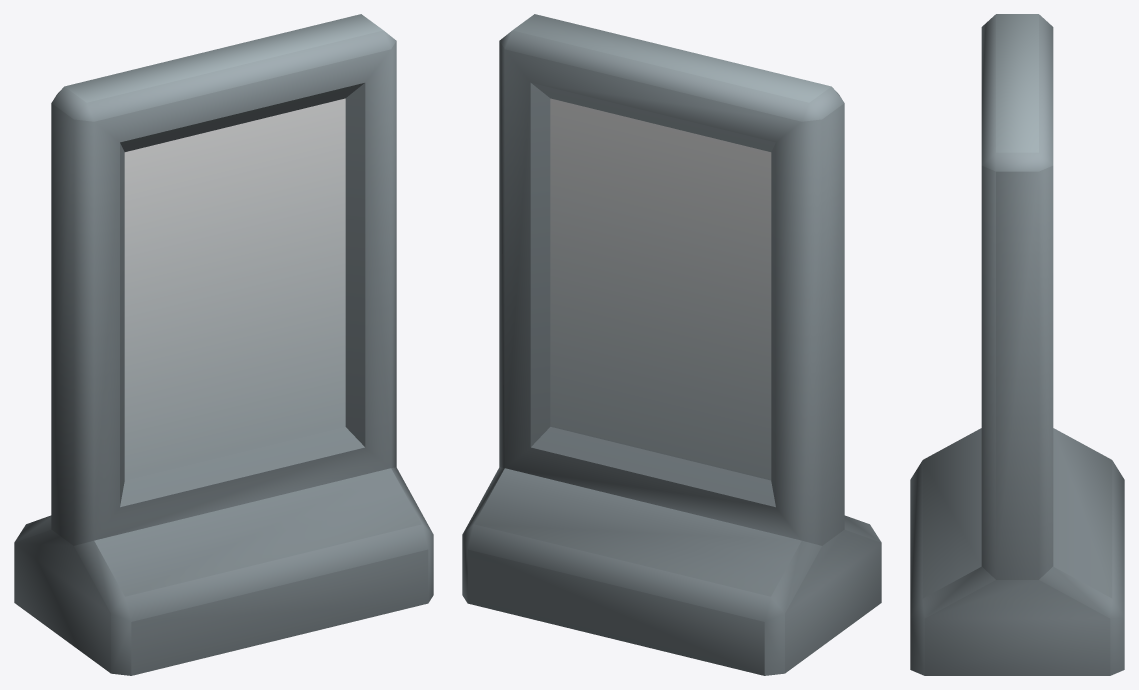
Rendered from Menu.glb.
The picture shows the model from 3 angles, left to right: view 1: azimuth 30°, elevation 25°; view 2: azimuth 150°, elevation 25°; view 3: azimuth 270°, elevation 25°; orthographic projection. The views are drawn at different scales.
Visible parts, largest first — view 1: menu; view 2: menu; view 3: menu.
Boxes of the visible parts, x1,y1,x2,y2 form: menu: (14, 14, 433, 675); menu: (462, 14, 881, 675); menu: (910, 14, 1124, 675).
Bounding box in the file's own units: 0.5 × 0.8 × 0.3.
Materials: 1 (1 with a texture image).
